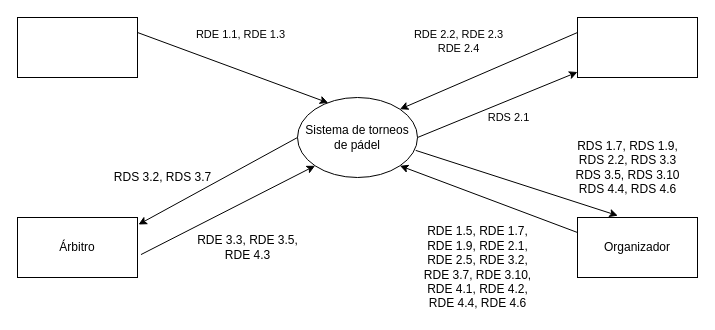
This 715x330 diagram has some shape labels left out. The shapes that lost their labels are listed below. From the top down, each one's centre as x and y in pixels, then its label:
the point at 77,47: Jugador
the point at 637,47: Usuario
